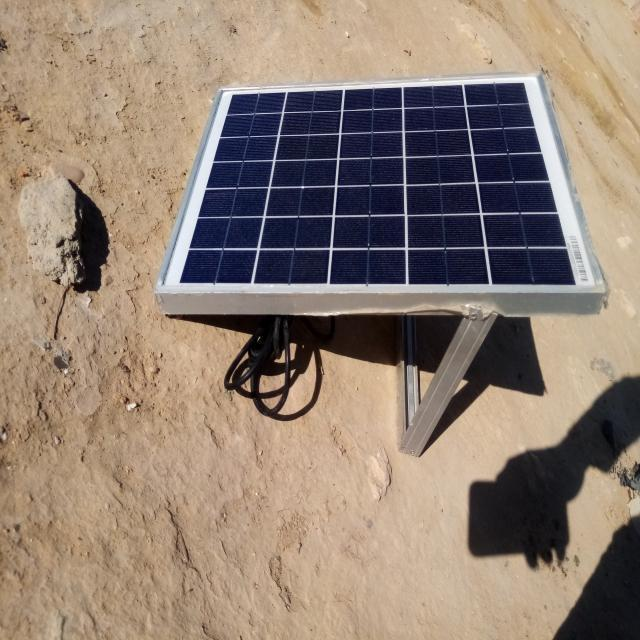Normal Solar Panel: (154, 70, 602, 295)
